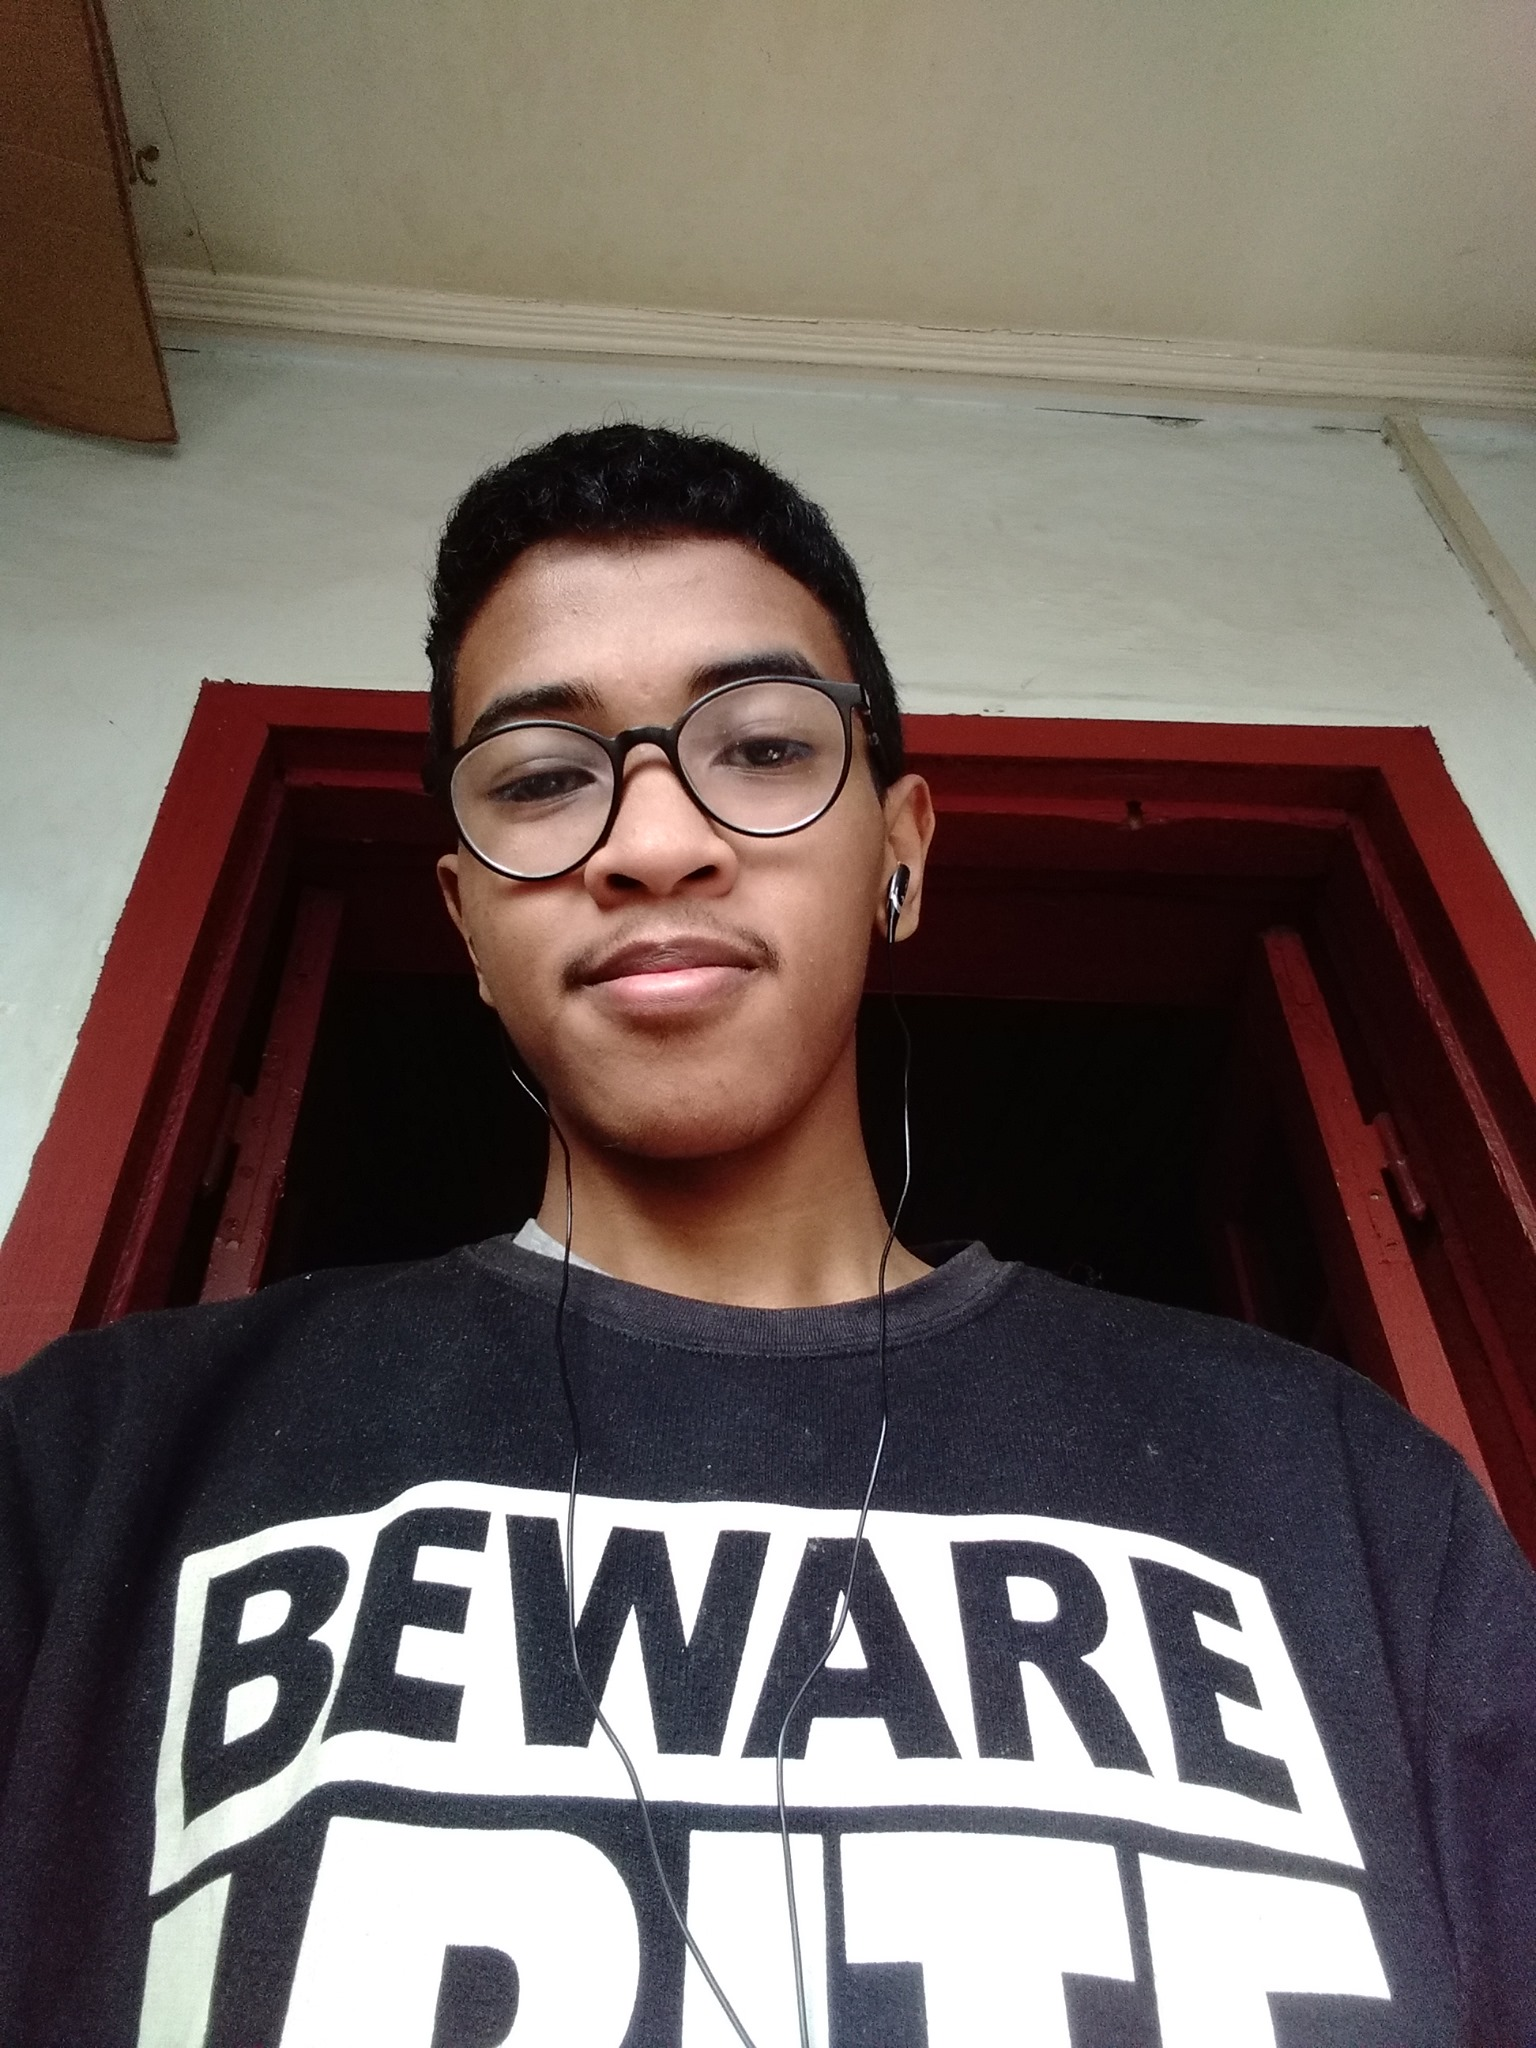BOY: (394, 414, 947, 1167)
